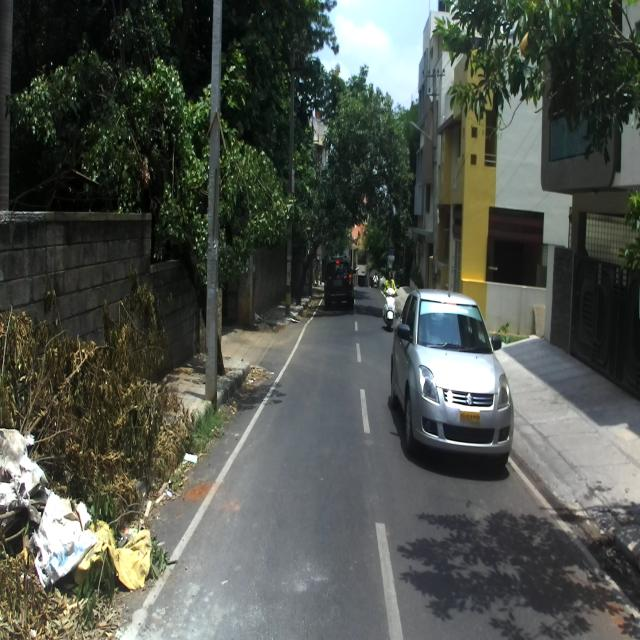car ahead at: (391, 285, 515, 477), (320, 256, 356, 316)
electric pole ahead at: (202, 3, 228, 415)
